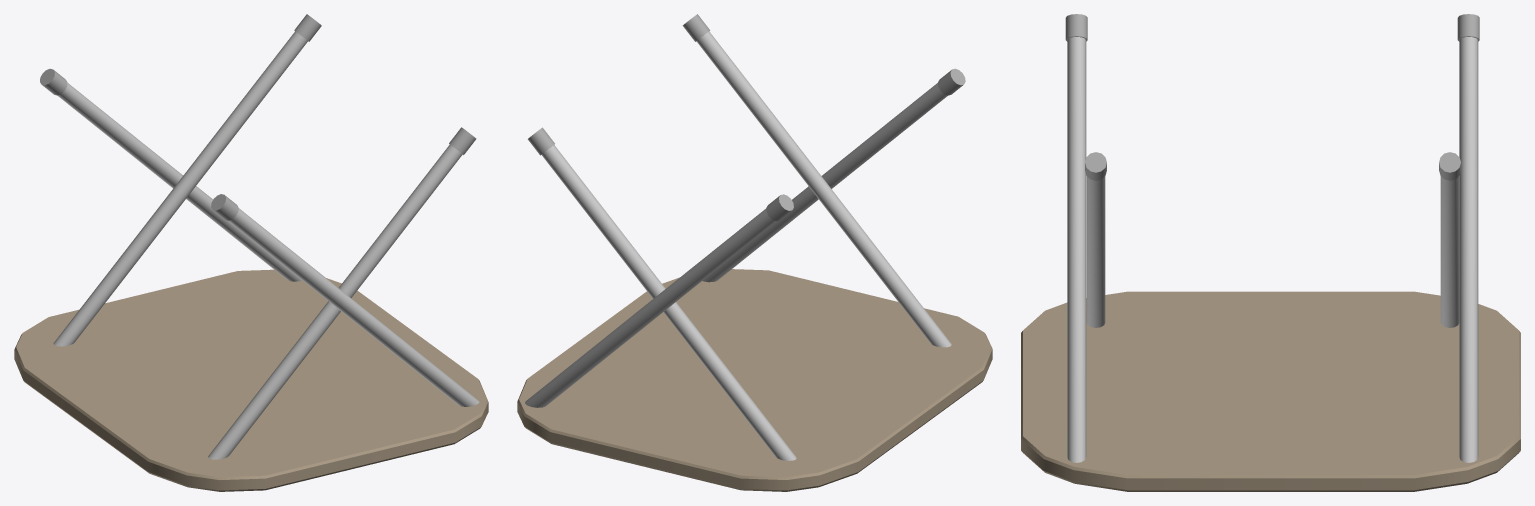
Rendered from Newdesk2.fbx.
3 views of the same model, side by side, from view 1: azimuth 30°, elevation 25°; view 2: azimuth 150°, elevation 25°; view 3: azimuth 270°, elevation 25° (orthographic). The views are drawn at different scales.
Parts seen in each view (by area): view 1: pCube46; view 2: pCube46; view 3: pCube46.
Boxes of the visible parts, x1,y1,x2,y2 form: pCube46: [14, 14, 488, 491]; pCube46: [517, 14, 992, 491]; pCube46: [1021, 14, 1520, 491].
Bounding box in the file's own units: 1 × 0.8151 × 1.14.
